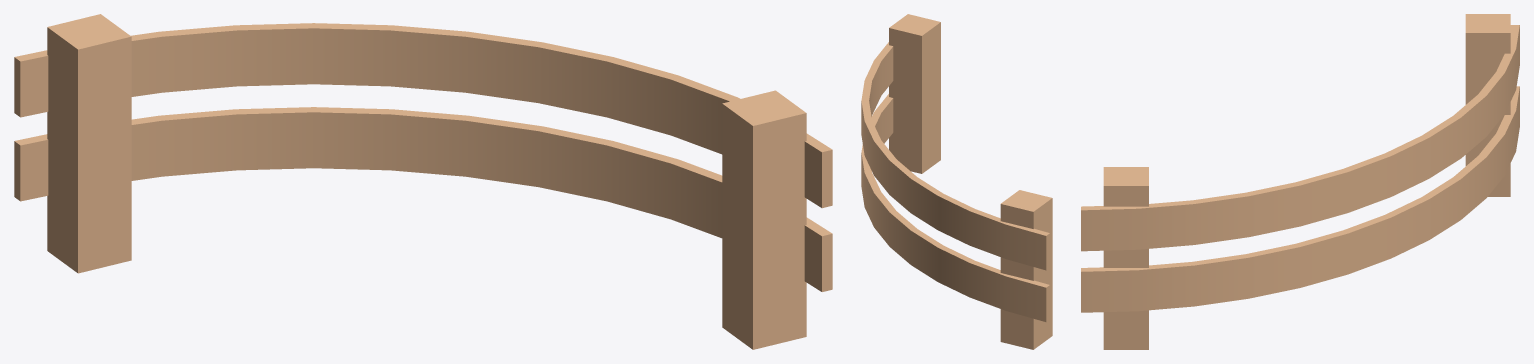
Rendered from fencecornercurved.glb.
The picture shows the model from 3 angles, left to right: view 1: azimuth 30°, elevation 25°; view 2: azimuth 150°, elevation 25°; view 3: azimuth 270°, elevation 25°; orthographic projection. The views are drawn at different scales.
Visible parts, largest first — view 1: fenceCornerCurved(Clone); view 2: fenceCornerCurved(Clone); view 3: fenceCornerCurved(Clone).
Part boxes in pixels (box(x1,y1,x2,y2)): fenceCornerCurved(Clone): box(14, 14, 832, 349); fenceCornerCurved(Clone): box(861, 14, 1052, 349); fenceCornerCurved(Clone): box(1081, 14, 1519, 349).
Bounding box in the file's own units: 0.97 × 0.4 × 0.97.
